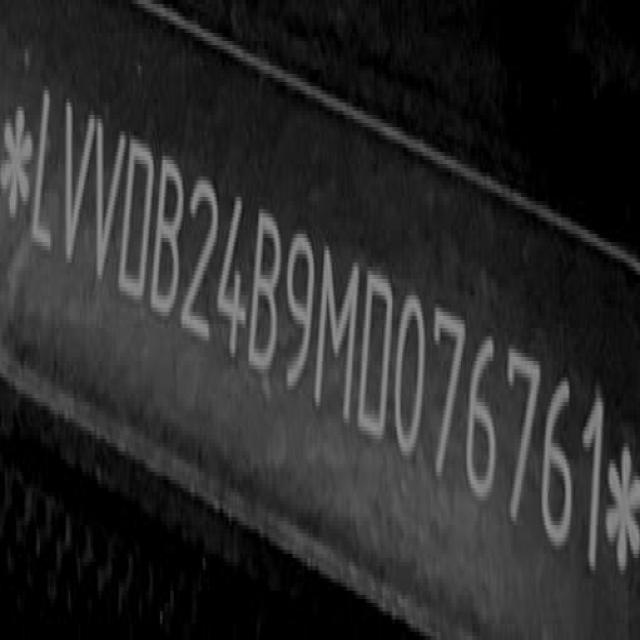0: (393, 275, 430, 471)
1: (580, 377, 604, 577)
2: (183, 166, 220, 350)
4: (215, 187, 250, 370)
6: (538, 358, 576, 561), (464, 318, 502, 513)
7: (504, 333, 542, 541), (429, 292, 466, 496)
9: (284, 214, 319, 406)
B: (250, 198, 286, 389), (148, 151, 184, 328)
D: (361, 258, 399, 452), (118, 126, 157, 308)
L: (30, 84, 66, 266)
M: (314, 228, 362, 430)
V: (88, 106, 127, 291), (58, 94, 96, 278)
